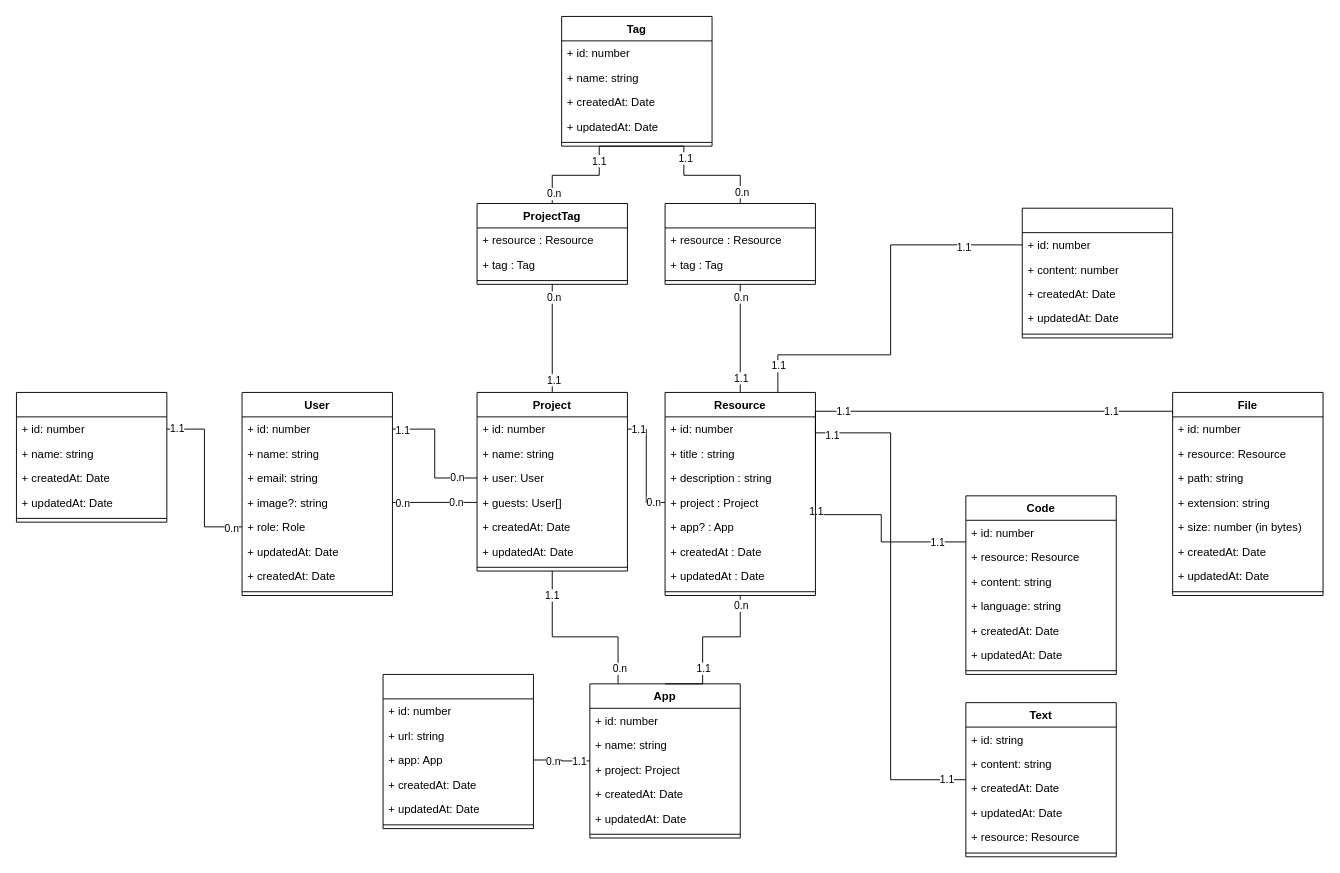
The diagram is 1340 pixels wide and 873 high, and some of its shapes have lost their labels. Each missing label, with the box of its shape:
Link: (1021, 207, 1173, 338)
ResourceTag: (664, 203, 815, 284)
Role: (16, 392, 167, 522)
WebHook: (382, 674, 533, 829)
